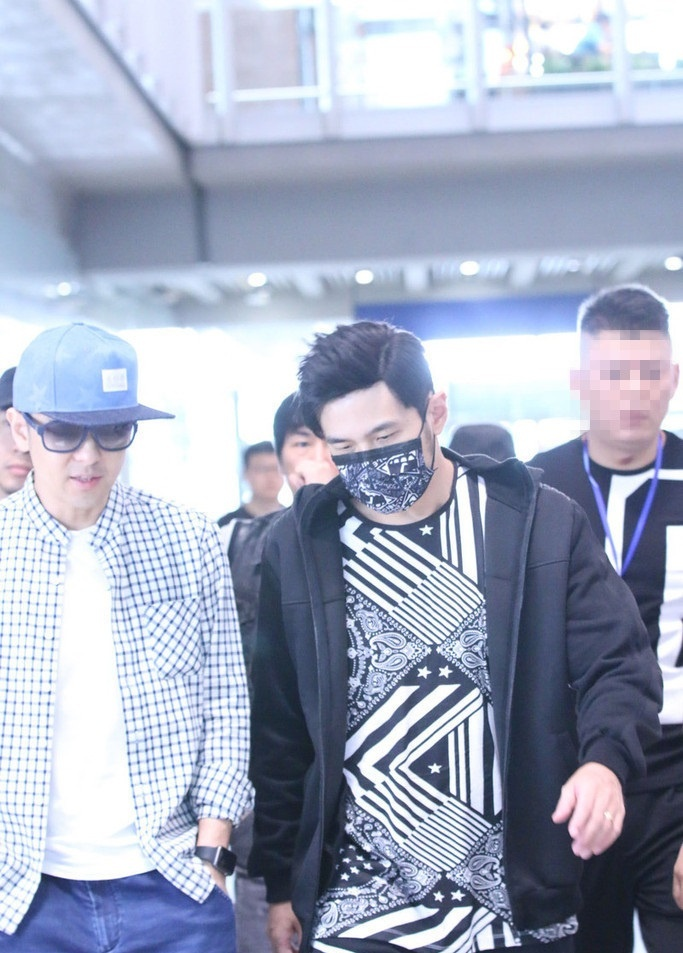Mask: (325, 414, 428, 517)
